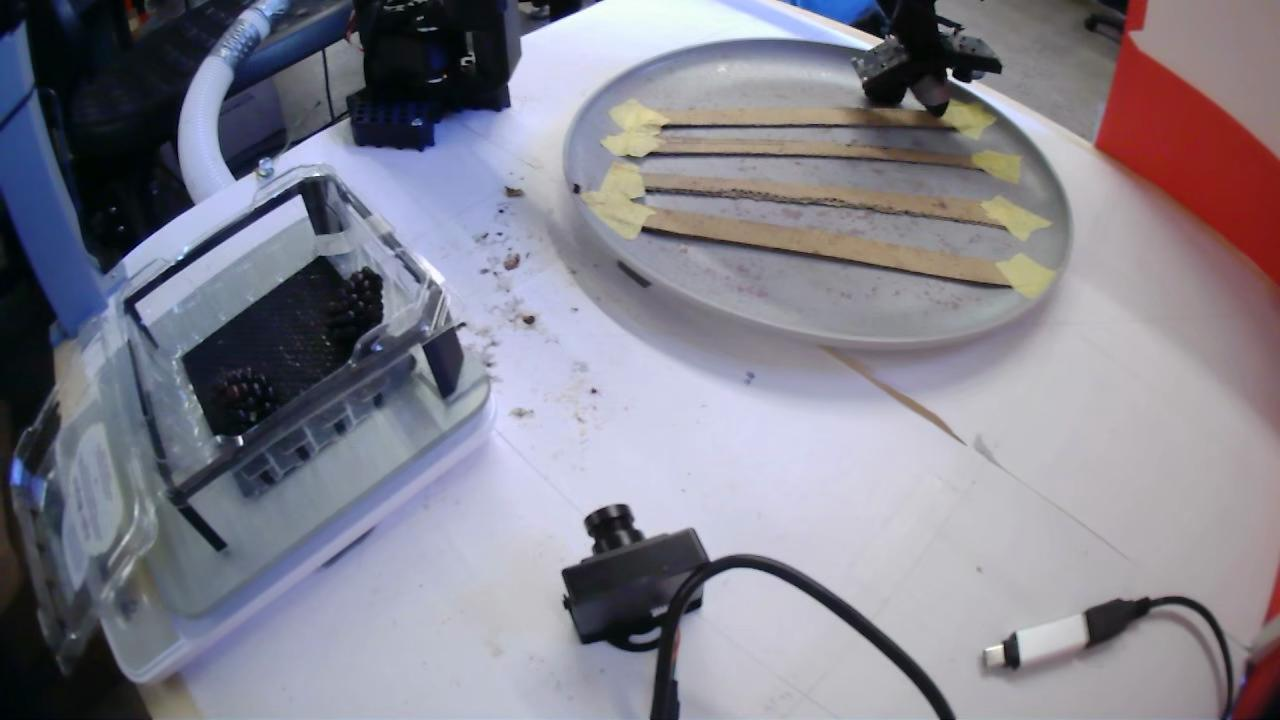berry: (324, 268, 383, 356), (216, 368, 276, 428), (864, 86, 906, 107)
